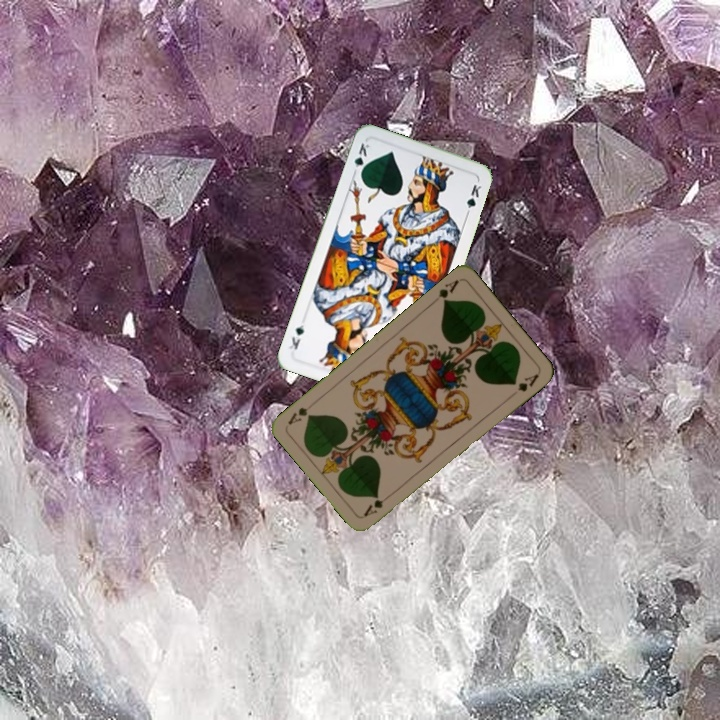GA: (359, 489, 394, 520), (434, 275, 462, 307)
GK: (349, 139, 372, 179)
